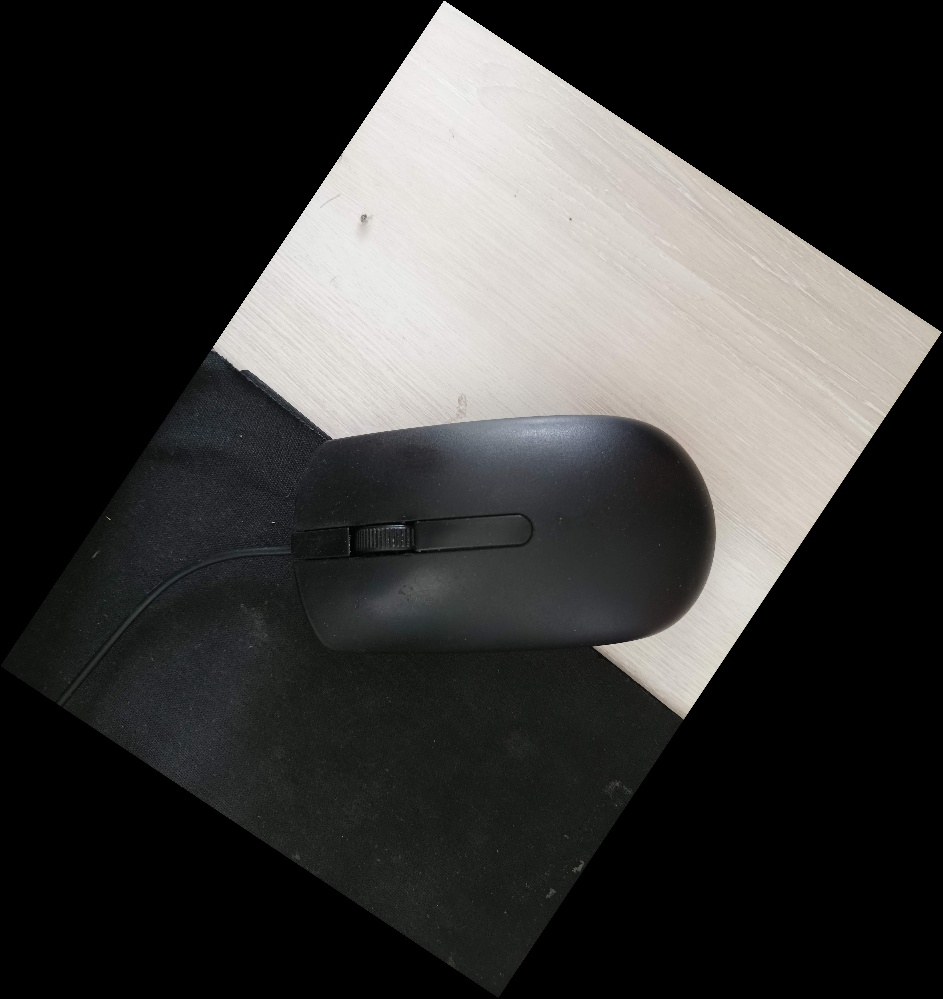mouse: (282, 408, 719, 661)
